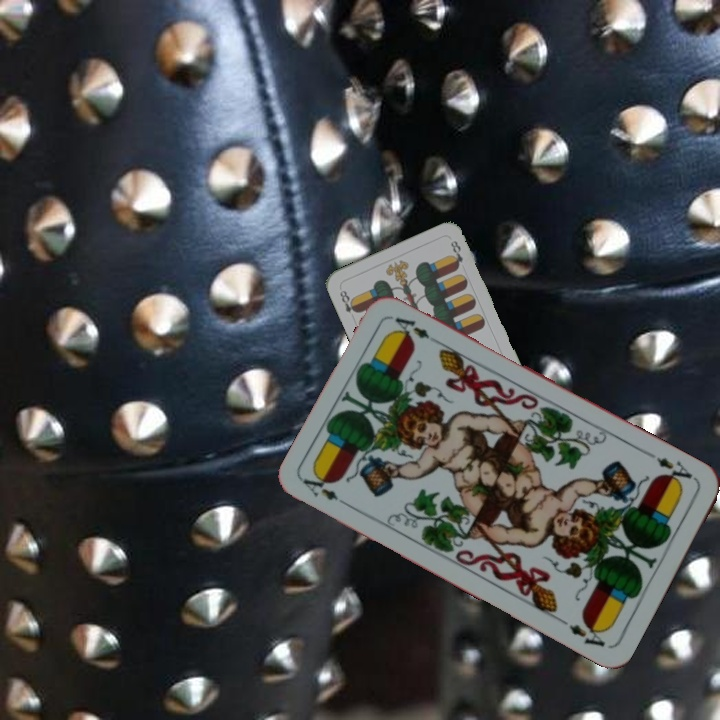E8: (336, 286, 361, 323)
EA: (299, 469, 354, 511), (644, 448, 695, 488)
